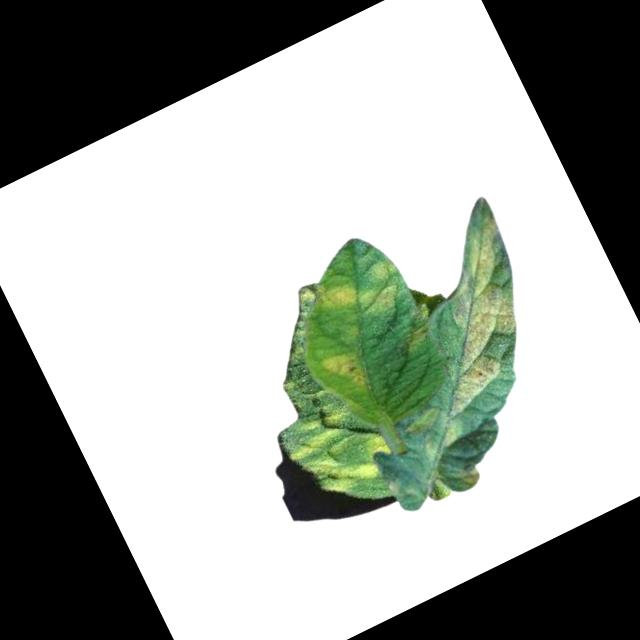Leaf_Mold: (381, 214, 565, 417), (282, 392, 399, 505), (314, 252, 416, 340), (316, 341, 373, 400), (455, 461, 483, 490)
